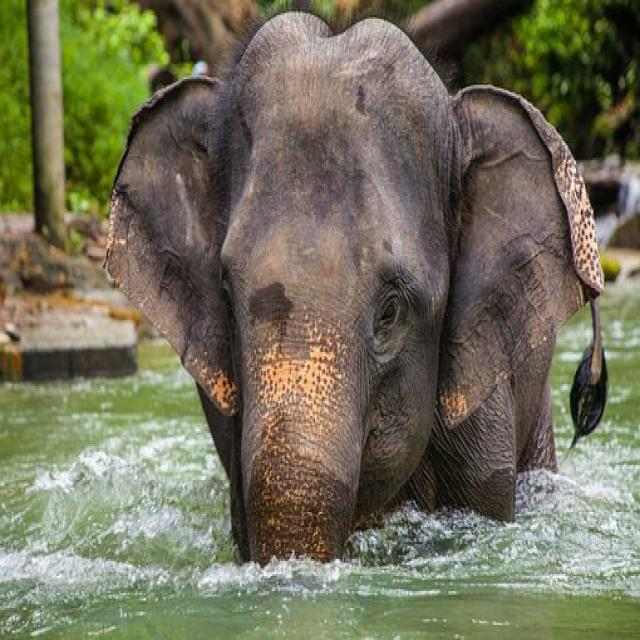Elephant: (82, 6, 633, 587)
